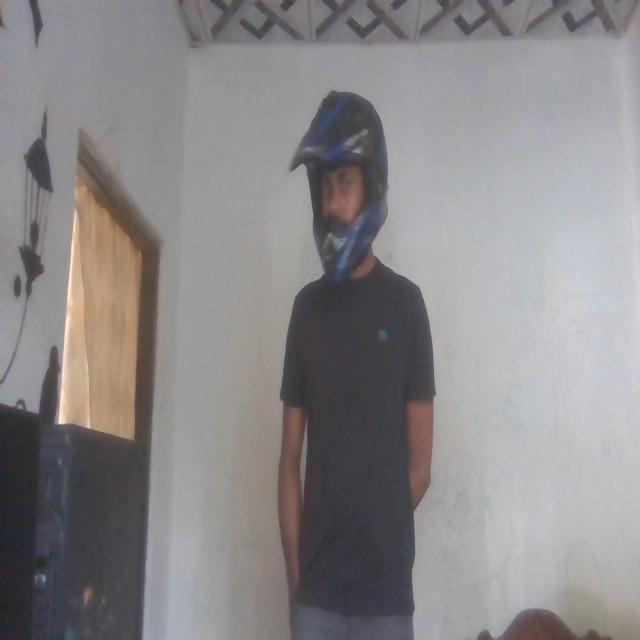Helmet_Wearer: (295, 84, 388, 280)
Person: (278, 84, 438, 640)
